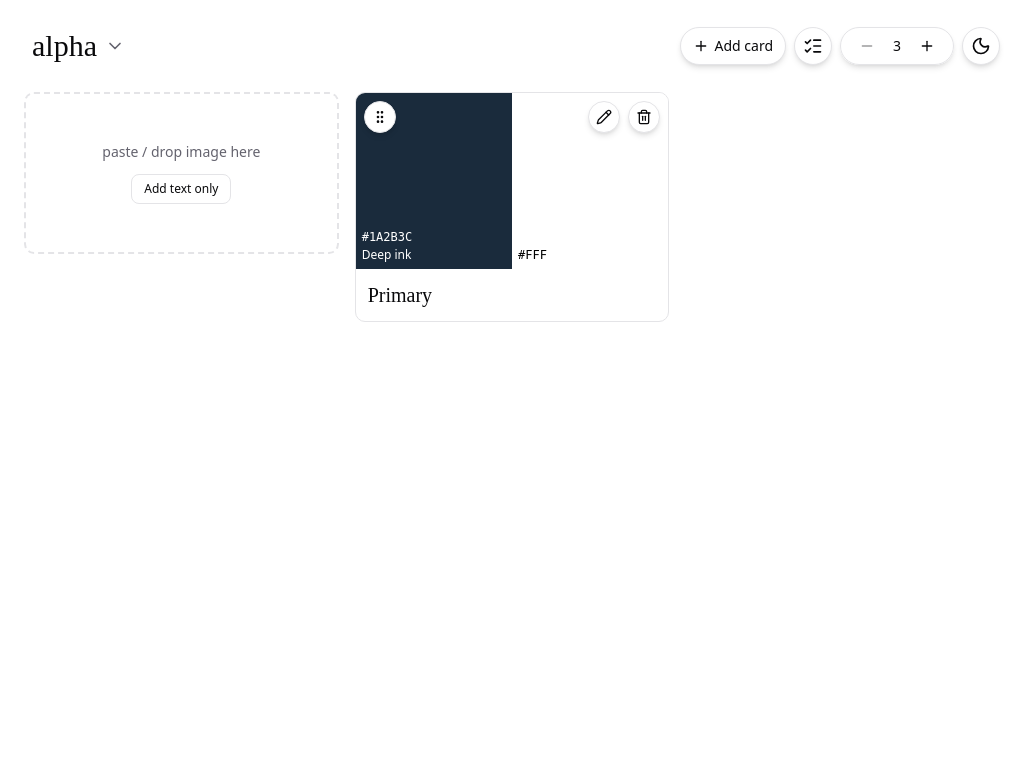
Test: editing a card › shows the server's refusal, as when the card changed since it was shown, and keeps the form open
expect the button with aria-label "Brand" is shown: met, box [24,24,133,68]
Step 1. Click the button named "Edit Primary" → (604, 117), box [588,101,620,133]
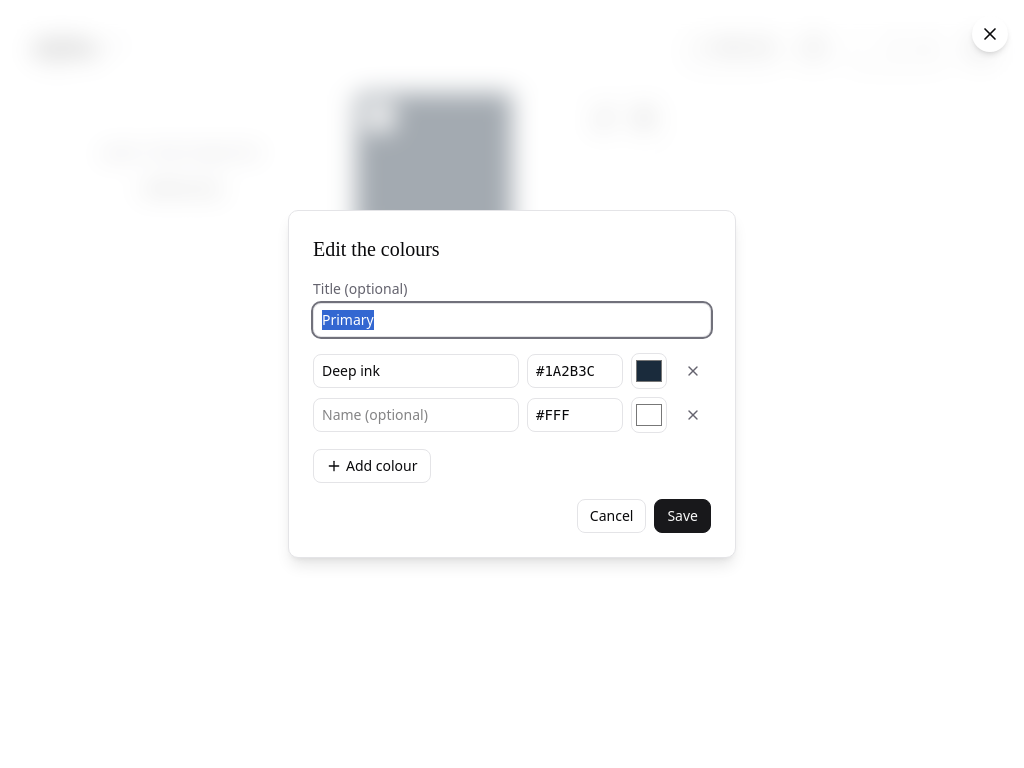
Step 2. Click the button "Save" → (683, 516), box [654,499,711,533]
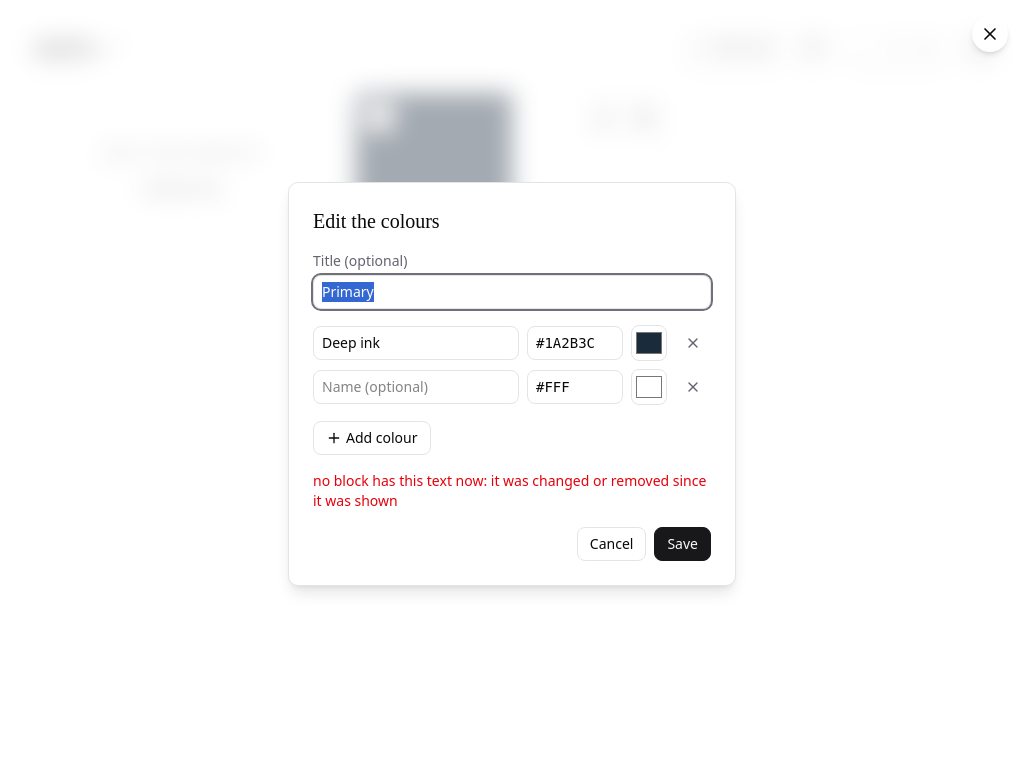
expect the dialog is shown: met
expect the message shows "changed or removed since it was shown": met, box [313,471,706,510]
